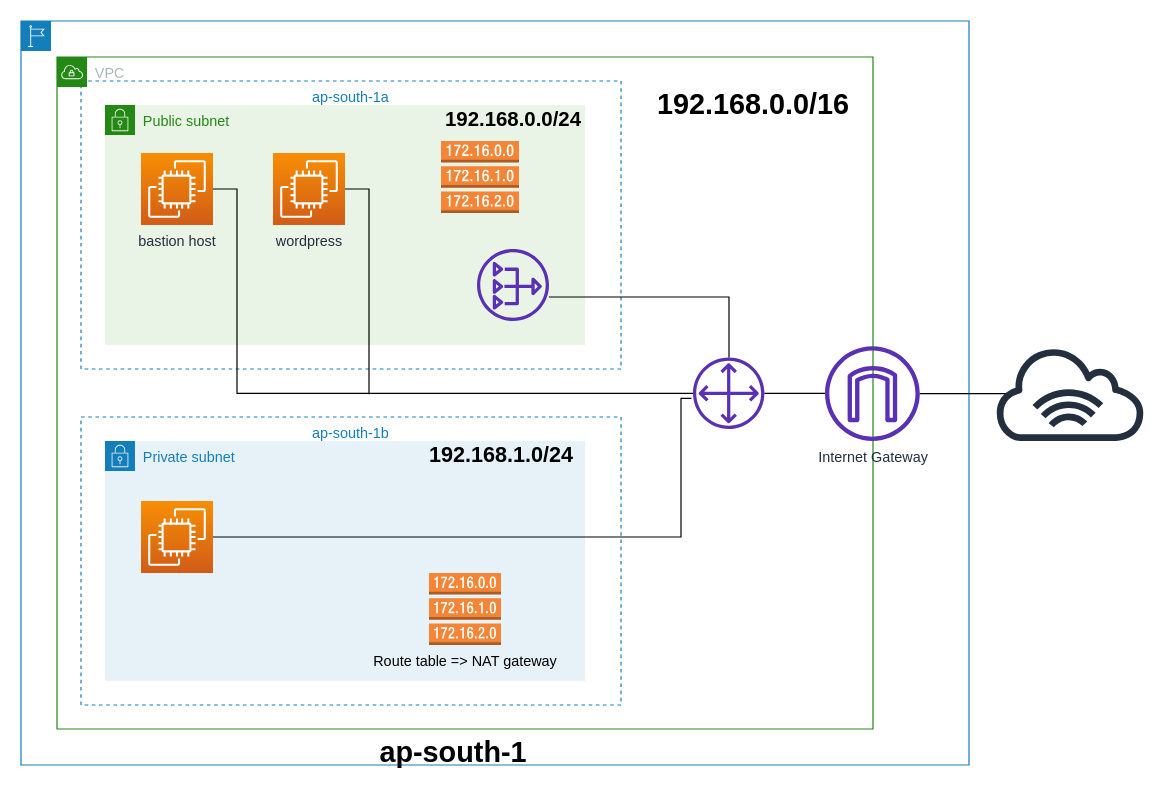
Some shapes in this 1168 by 798 pixel diagram are drawn without their labels. The centre of each missing label's shape, as x and y in pixels:
Internet: the point at 1069,393
mysql: the point at 176,536
NAT Gateway: the point at 512,284
Route table => Internet gateway: the point at 479,176
Router: the point at 728,392
